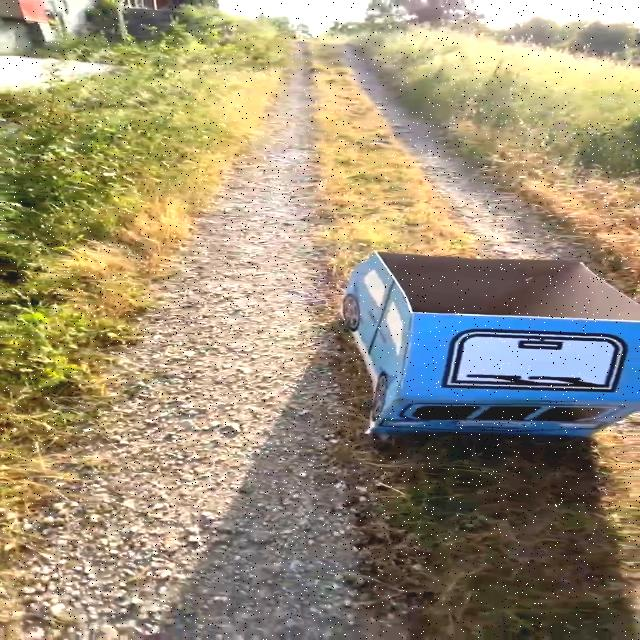blue_car: (304, 234, 640, 472)
